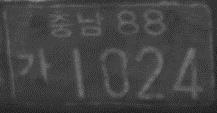0: (99, 46, 130, 100)
1: (69, 47, 88, 100)
2: (135, 45, 166, 101)
4: (171, 46, 203, 101)
8: (116, 8, 139, 36), (143, 8, 166, 36)
가: (16, 48, 53, 86)
충남_O: (47, 9, 104, 37)
